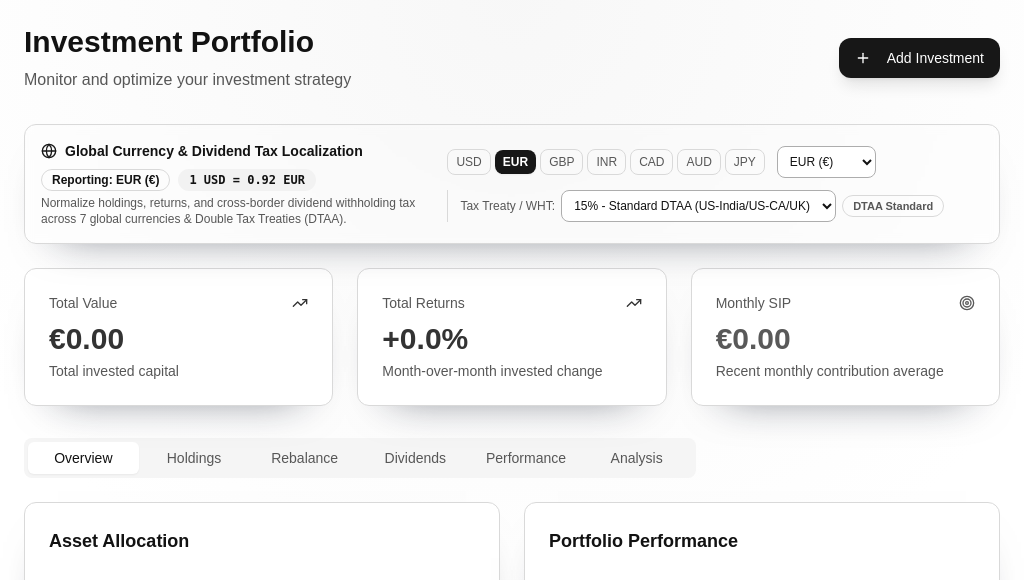
Test: Portfolio Page › renders Multi-Currency FX Cockpit and switches reporting currency to EUR and JPY
This screenshot has width=1024, height=580.
Earlier steps of the test are not shown.
Expected: the text with test id "badge-portfolio-reporting-currency" reads "Reporting: EUR (€)", [41,169,170,191]
Expected: the text with test id "badge-portfolio-fx-rate" reads "1 USD = 0.92 EUR", [178,169,316,191]
Select "JPY (¥)" in the dropdown with test id "select-portfolio-currency": (826, 162) [777,146,876,178]
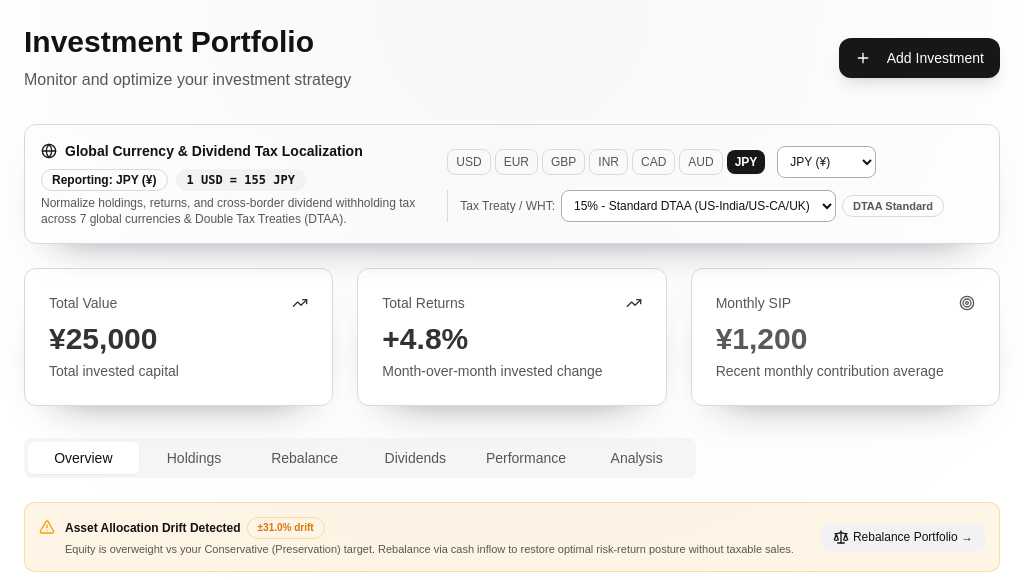
Expected: the text with test id "badge-portfolio-reporting-currency" reads "Reporting: JPY (¥)", [41,169,168,191]
Expected: the text with test id "badge-portfolio-fx-rate" reads "1 USD = 155 JPY", [176,169,306,191]
